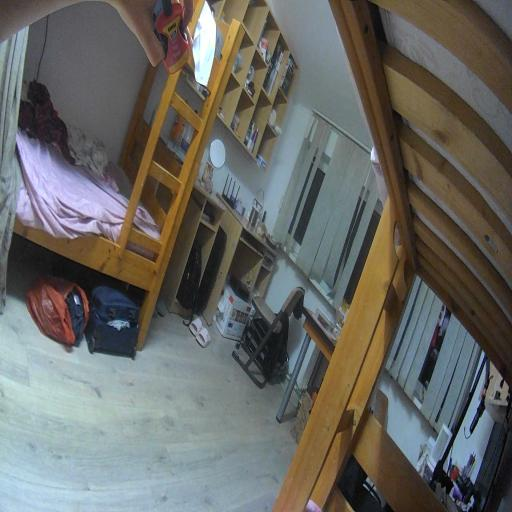Super Glue: (152, 2, 190, 74)
